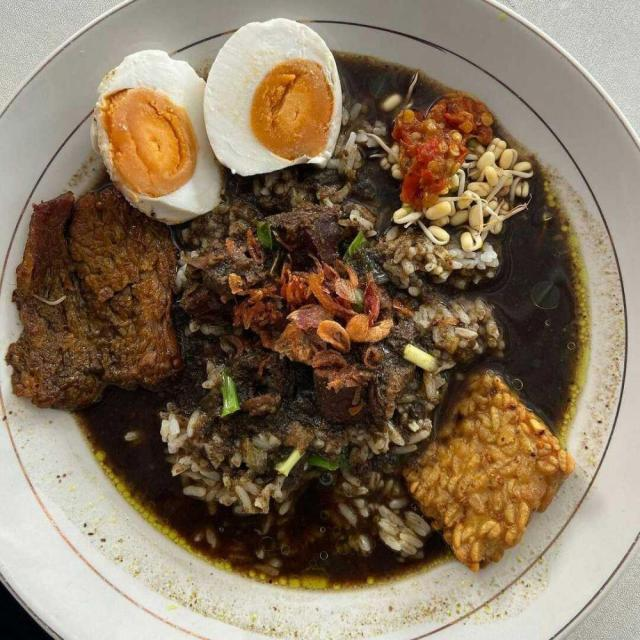Rawon: (58, 114, 574, 562)
